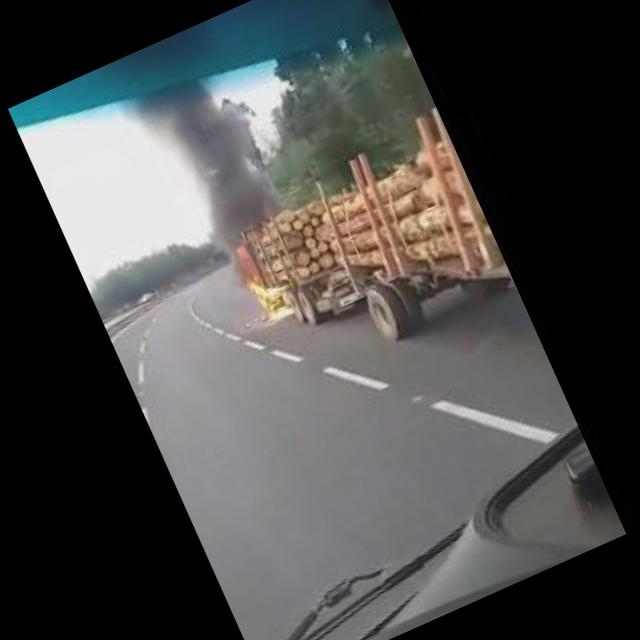fire: (240, 266, 298, 330)
smoke: (128, 56, 302, 272)
